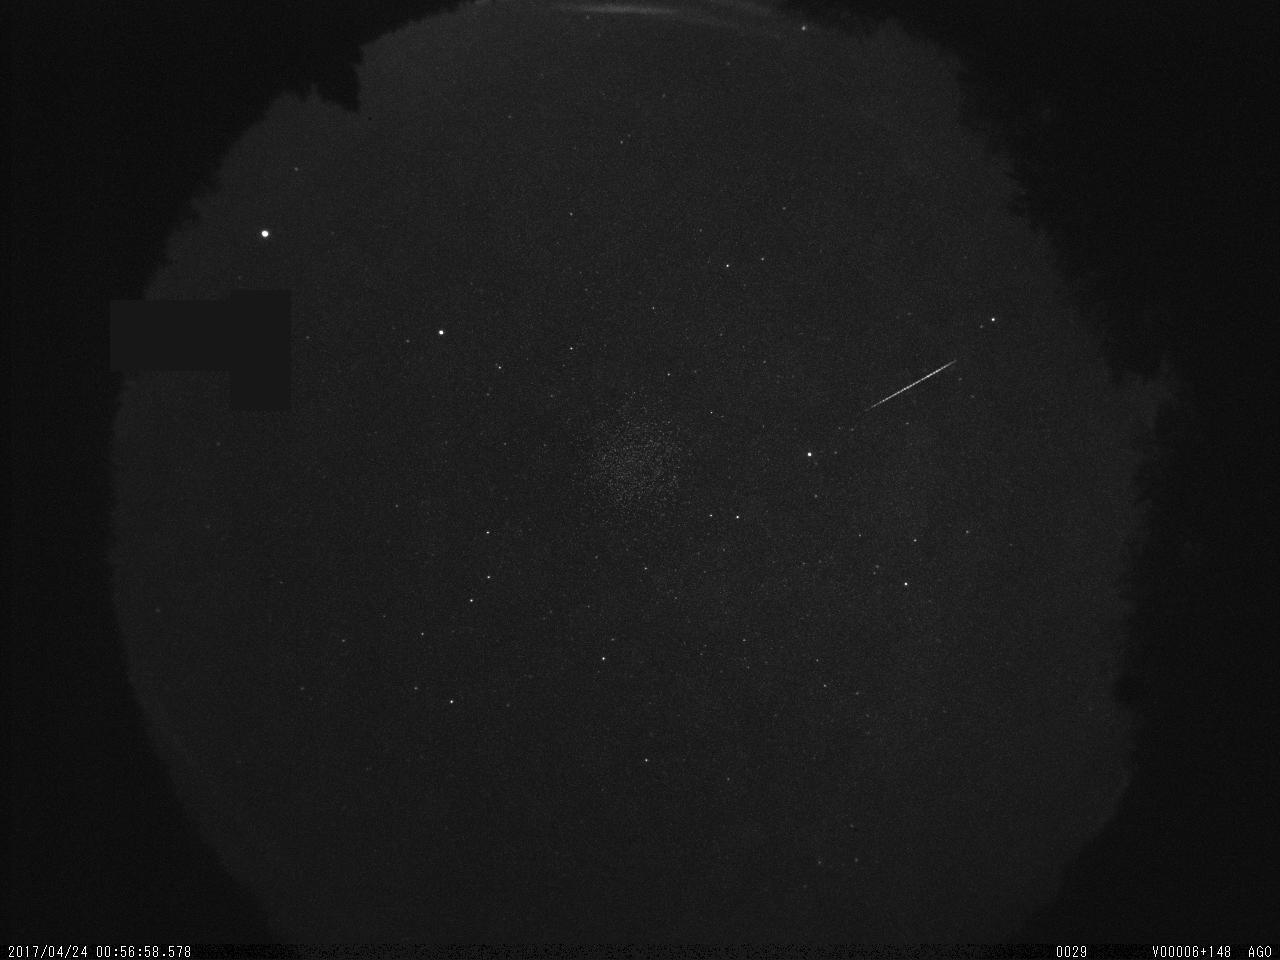meteor: (842, 347, 965, 425)
